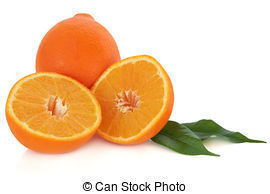orange: (34, 13, 124, 117)
